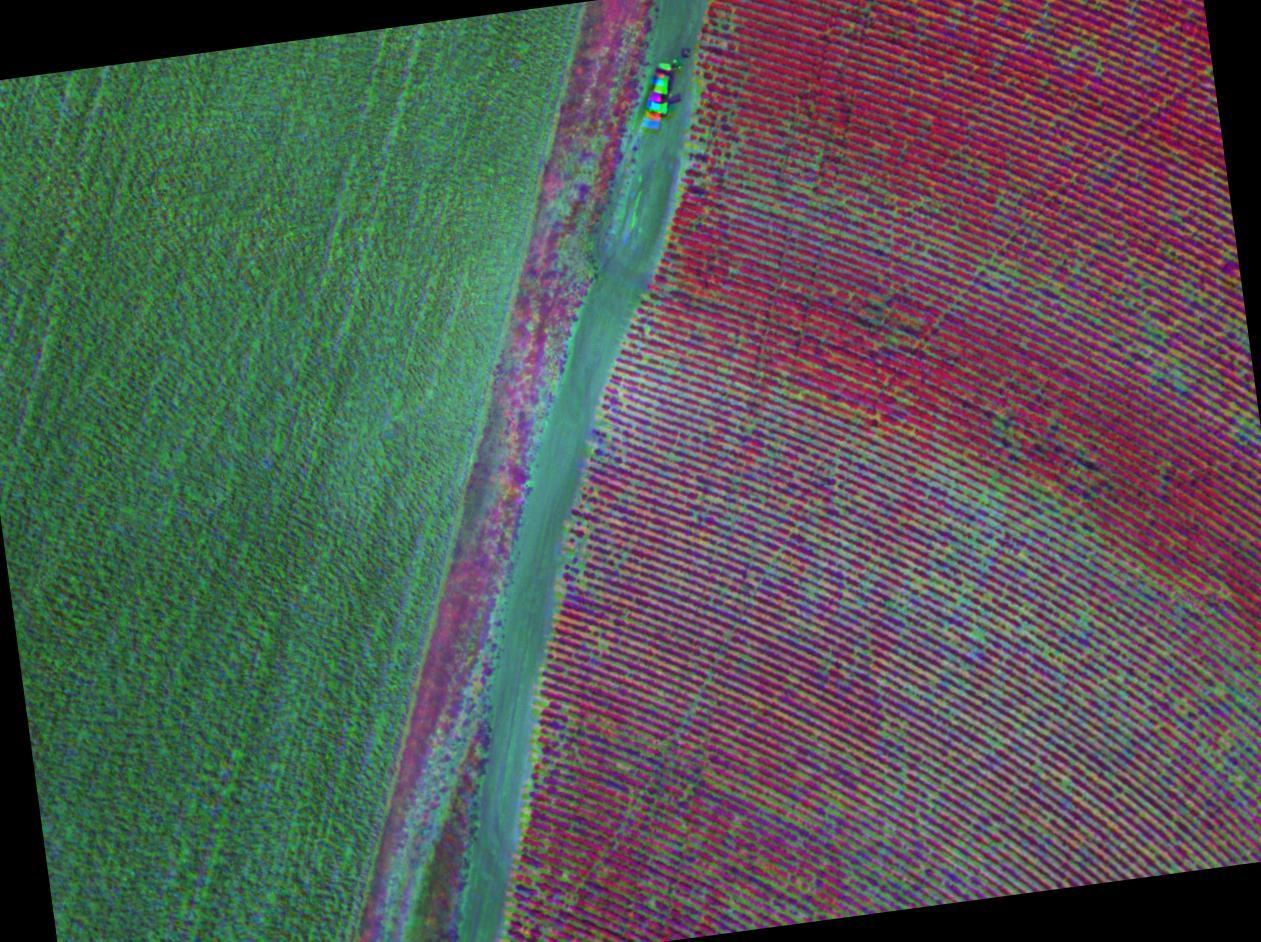dc: (975, 632, 980, 638), (884, 828, 890, 833), (1021, 554, 1026, 559), (579, 565, 584, 569), (601, 426, 605, 430), (978, 267, 983, 270)
